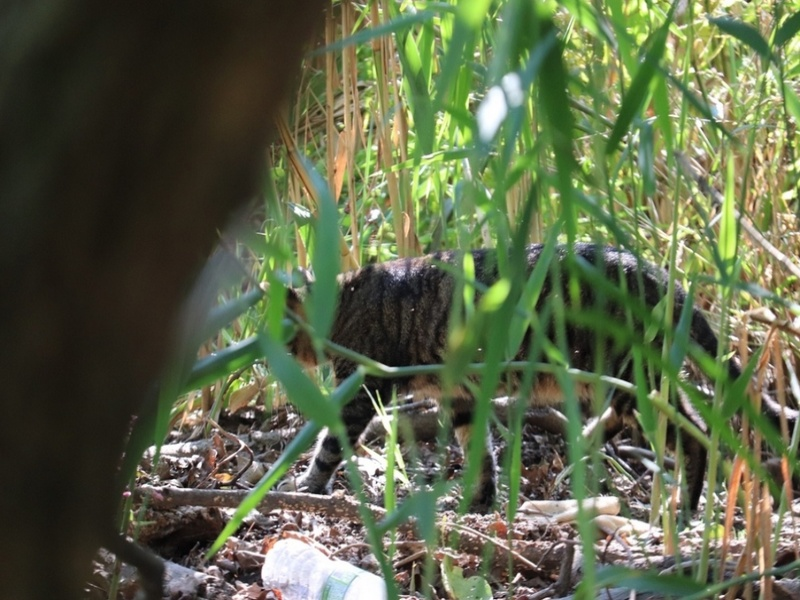cat: (262, 242, 753, 524)
